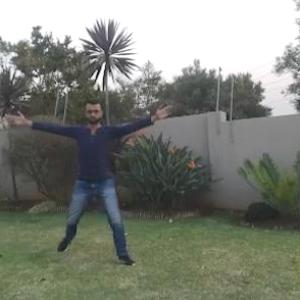takeoff: (5, 99, 163, 266)
